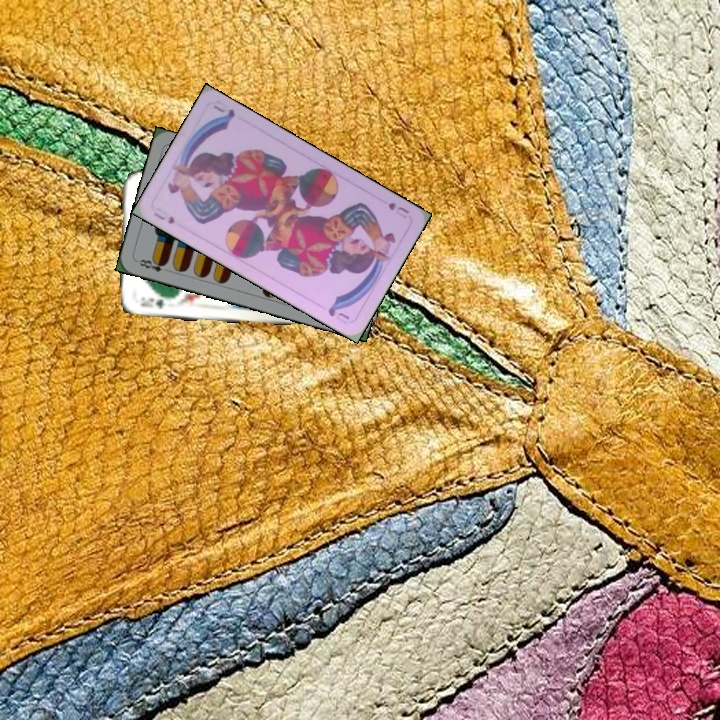E8: (133, 255, 172, 275)
GK: (136, 294, 166, 311)
SU: (384, 198, 411, 222), (150, 208, 178, 227)
